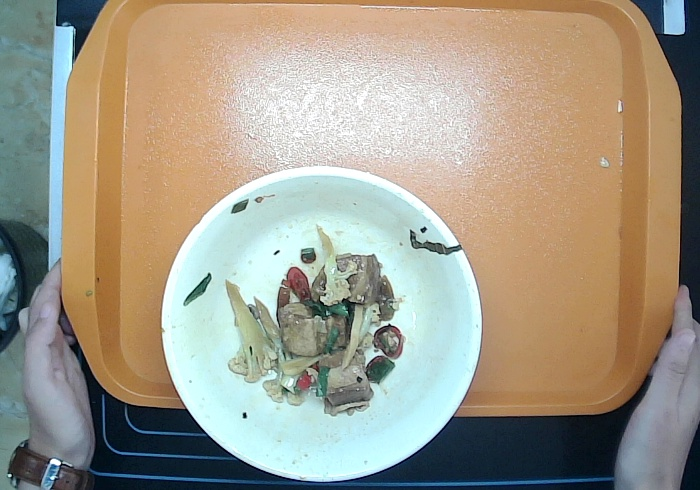ZNLD-Da_Tang_Wan: (157, 163, 484, 484)
